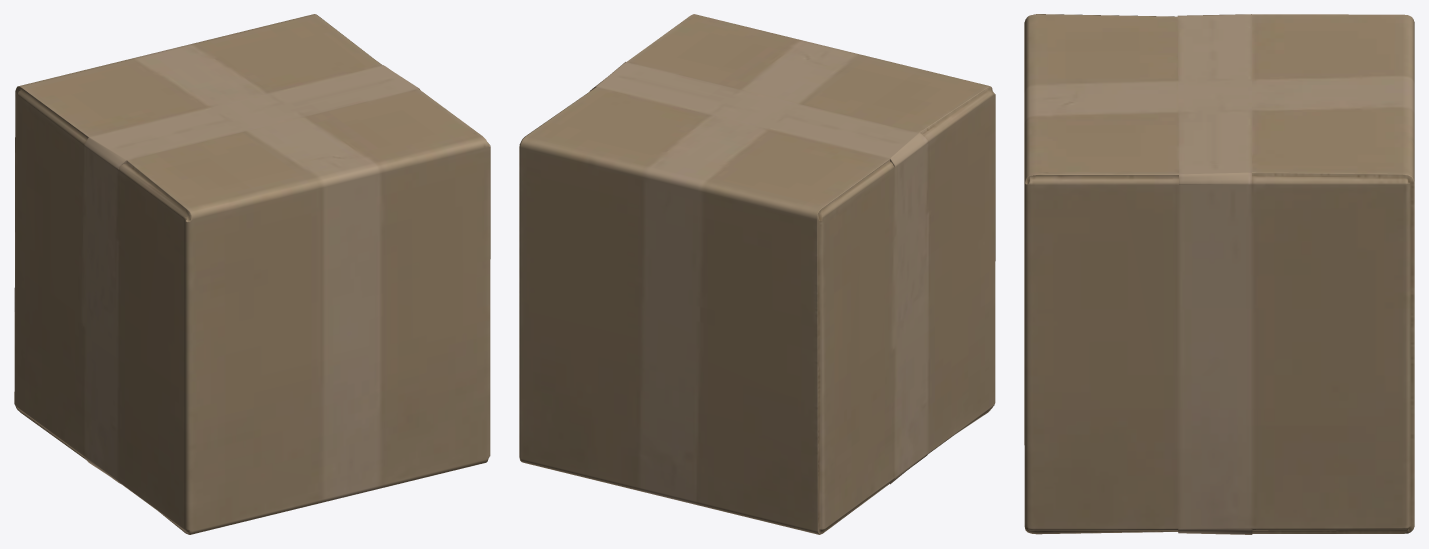
3 renders of one model, left to right at view 1: azimuth 30°, elevation 25°; view 2: azimuth 150°, elevation 25°; view 3: azimuth 270°, elevation 25°, orthographic. The views are drawn at different scales.
Visible parts, largest first — view 1: box_b_mesh; view 2: box_b_mesh; view 3: box_b_mesh.
Boxes of the visible parts, bbox=[...] form: box_b_mesh: bbox=[14, 14, 490, 534]; box_b_mesh: bbox=[519, 14, 995, 534]; box_b_mesh: bbox=[1024, 14, 1414, 534].
Bounding box in the file's own units: 0.5103 × 0.5207 × 0.5099.
1 material, 1 textured.
